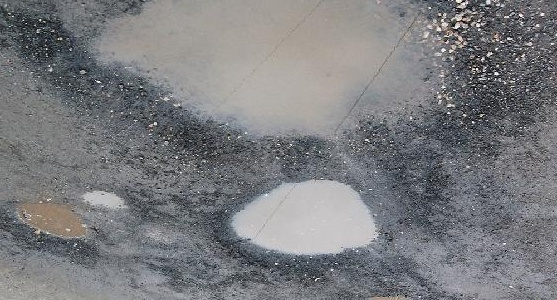pothole: (29, 0, 476, 166), (218, 177, 392, 273), (0, 199, 100, 257), (79, 187, 128, 214)
